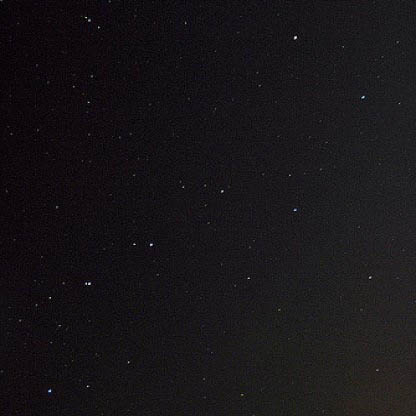Ursa Major: (343, 87, 375, 112), (34, 375, 60, 405), (280, 20, 310, 44), (76, 266, 96, 298), (139, 231, 162, 255), (286, 197, 303, 222), (212, 185, 231, 205)
